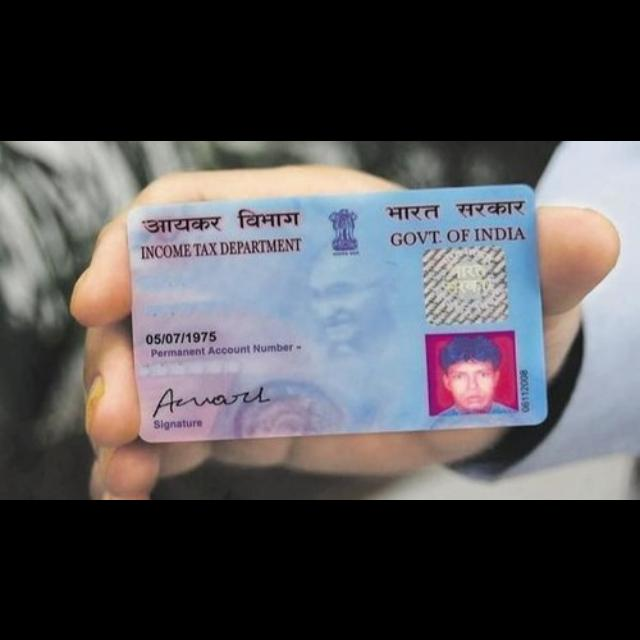pan: (118, 179, 550, 441)
